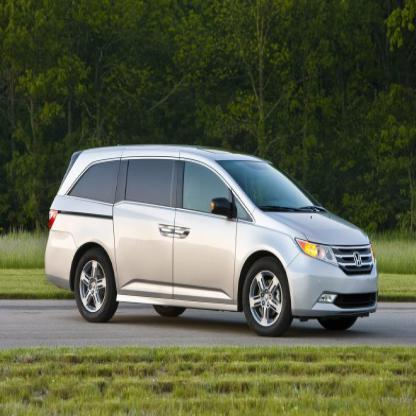Vehicle: (44, 146, 382, 340)
